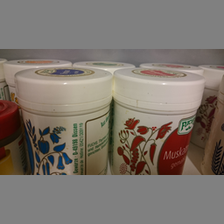spices: (14, 66, 113, 174), (113, 67, 205, 174)
